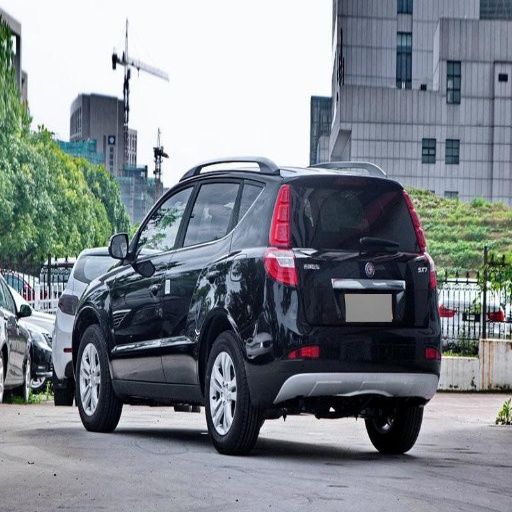back_bumper: (259, 317, 437, 399)
back_glass: (297, 180, 411, 243)
back_left_door: (162, 176, 235, 382)
trunk: (301, 244, 430, 361)
